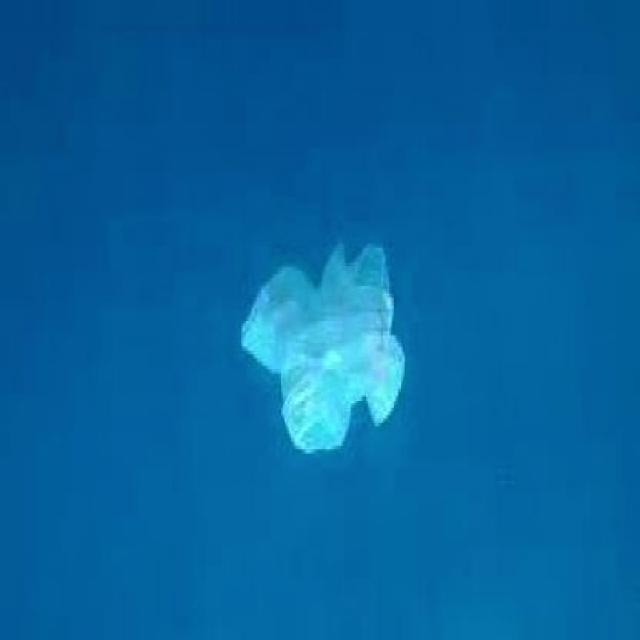pbag: (238, 236, 407, 453)
